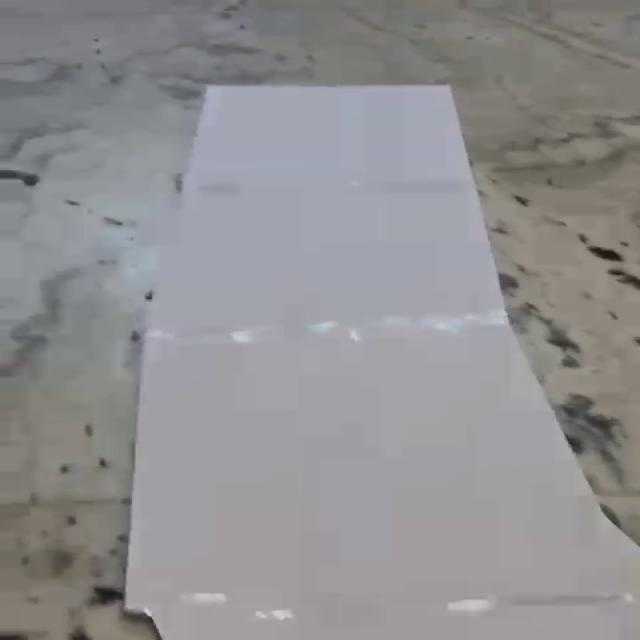road: (127, 85, 640, 640)
